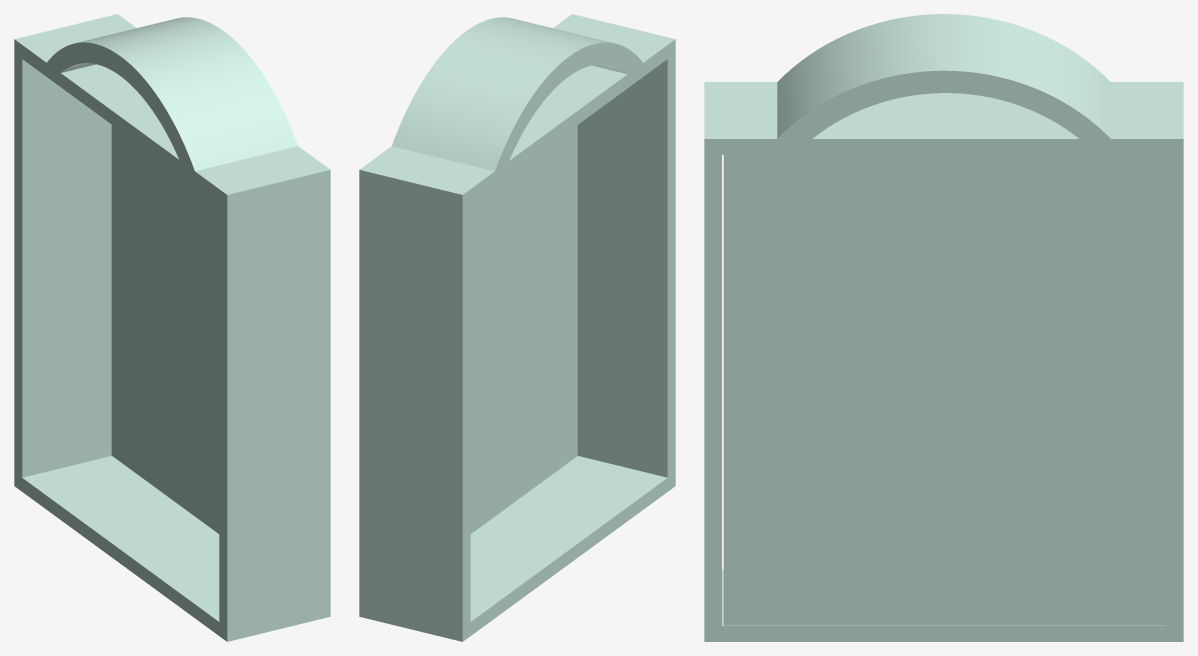
3 renders of one model, left to right at view 1: azimuth 30°, elevation 25°; view 2: azimuth 150°, elevation 25°; view 3: azimuth 270°, elevation 25°, orthographic. The views are drawn at different scales.
Parts seen in each view (by area): view 1: Renderer Node; view 2: Renderer Node; view 3: Renderer Node.
Boxes of the visible parts, <box> form: Renderer Node: <box>14,14,330,641</box>; Renderer Node: <box>359,14,675,641</box>; Renderer Node: <box>704,14,1183,641</box>.
Bounding box in the file's own units: 0.2891 × 1.36 × 1.03.
